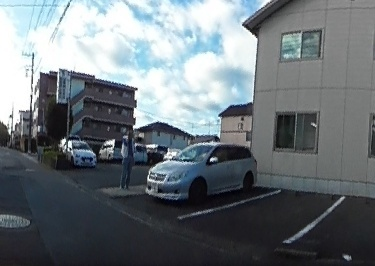person: (119, 129, 134, 188)
